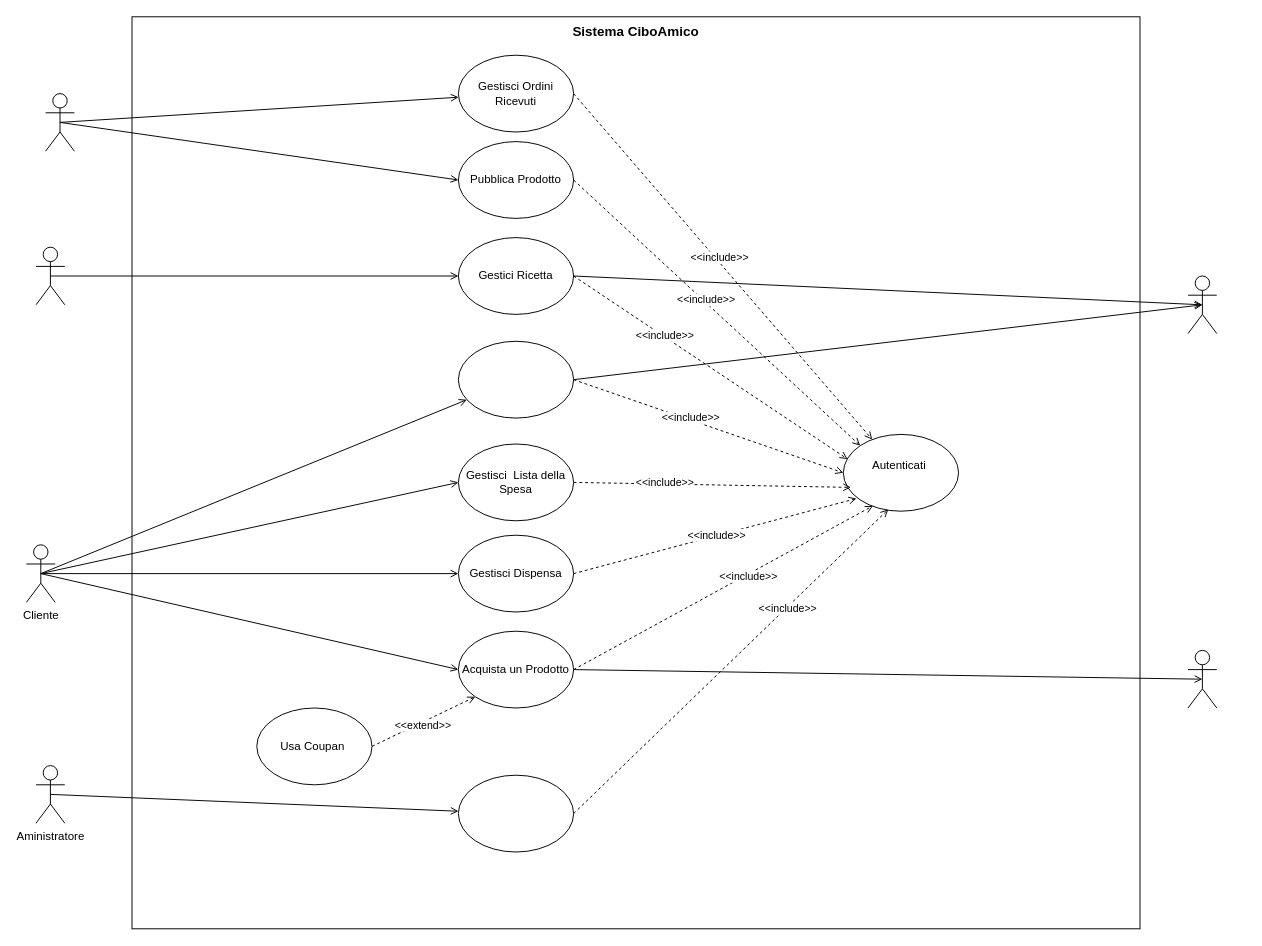
This 1262x946 diagram has some shape labels left out. Each missing label, with the centre of its shape:
"Gestisci approvazioni" goes at (515,813).
"Gestisci Ricette Compatibili" goes at (515,379).
"Nutrizionista" goes at (50,275).
"OpenFoodFacts" goes at (1202,304).
"Payment Service" goes at (1202,678).
"Venditore" goes at (59,122).
